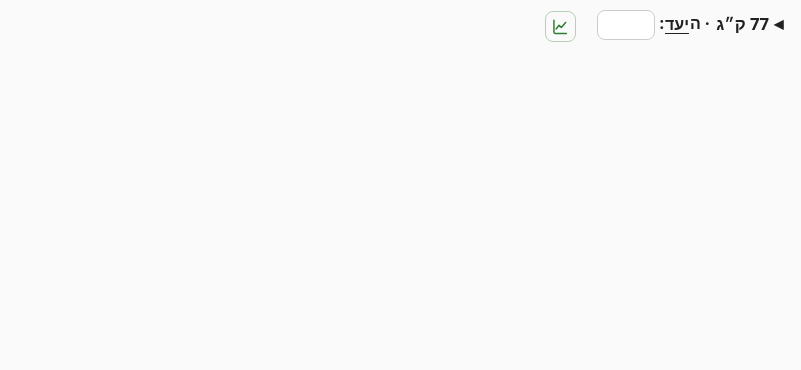
rhythm reading › names the weigh-in day while the day holds no weighing
This screenshot has width=801, height=370.
Click the button named "משקל".
click(750, 23)  # box [715,10,784,36]
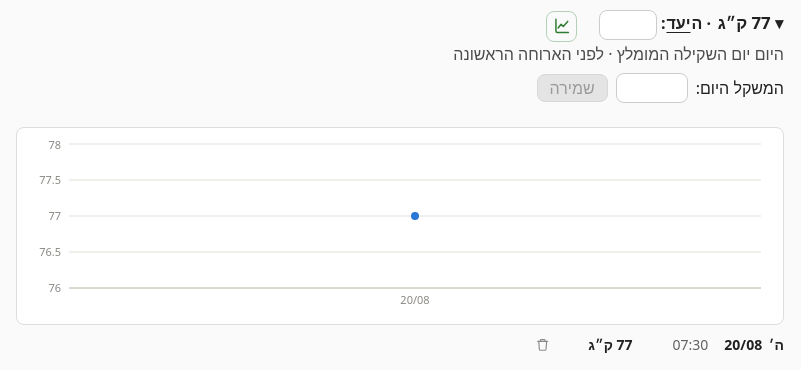
Now the text with class "weight-rhythm" shows "היום יום השקילה המומלץ", box [453,43,784,65]
